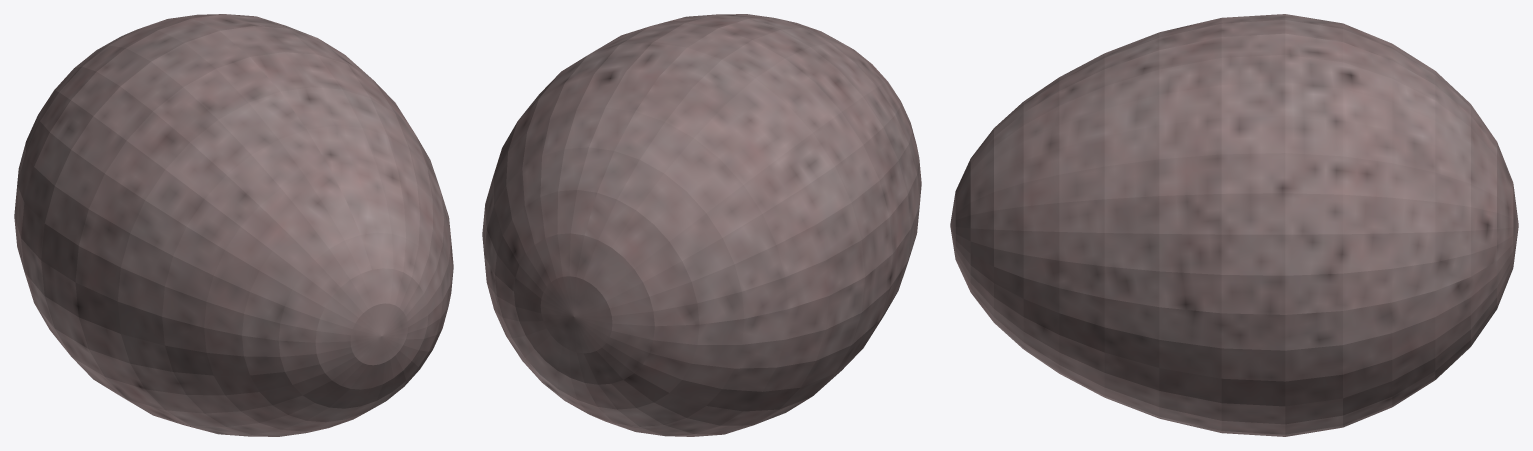
The model's file is food_egg_chicken_b08.glb.
The picture shows the model from 3 angles, left to right: view 1: azimuth 30°, elevation 25°; view 2: azimuth 150°, elevation 25°; view 3: azimuth 270°, elevation 25°; orthographic projection. The views are drawn at different scales.
Visible parts, largest first — view 1: geometry_0; view 2: geometry_0; view 3: geometry_0.
Boxes of the visible parts, x1=… form: geometry_0: x1=14, y1=14, x2=453, y2=436; geometry_0: x1=482, y1=14, x2=921, y2=436; geometry_0: x1=950, y1=14, x2=1518, y2=436.
Bounding box in the file's own units: 0.3127 × 0.3127 × 0.42.
1 material, 1 textured.
